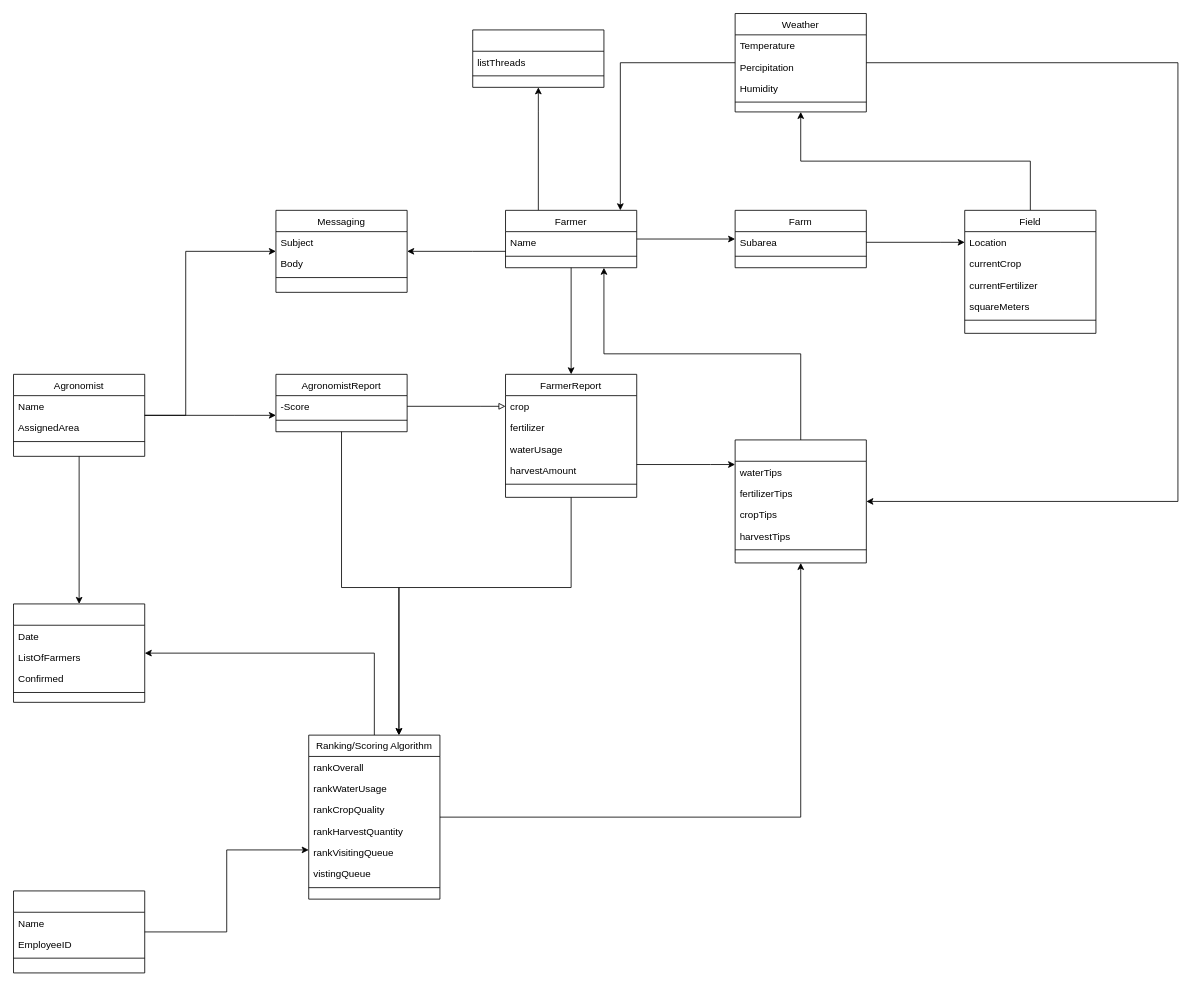
This 1191x986 diagram has some shape labels left out. The shapes that lost their labels are listed below. From the top down, each one's box as (x1, y1, x2, y2) in pixels, then its label:
(472, 29, 604, 87): DiscussionBoard
(734, 439, 866, 563): Suggestions Algorthm
(13, 603, 145, 702): Daily Plan
(13, 890, 145, 973): Policy Maker
